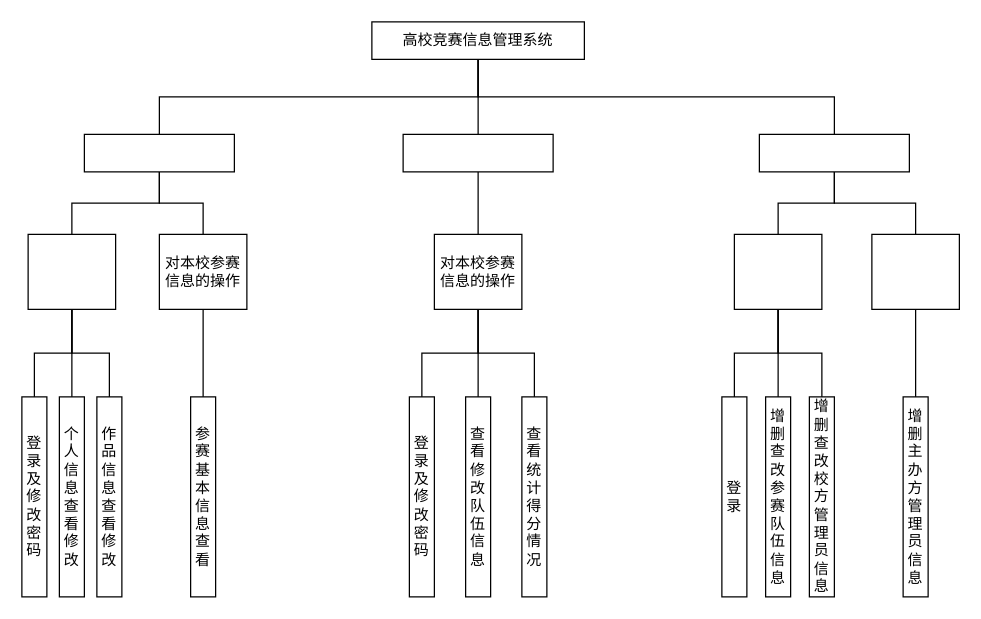
This 981x619 diagram has some shape labels left out. The shapes that lost their labels are listed below. From the top down, each one's centre as x and y in pixels, then its label:
At [158,152]: "参赛队伍信息模块".
At [477,152]: "校方信息管理模块".
At [833,152]: "主办方信息管理模块".
At [71,271]: "对本队参赛信息的操作".
At [777,271]: "对所有参赛信息的操作".
At [915,271]: "对主办方信息的操作".
